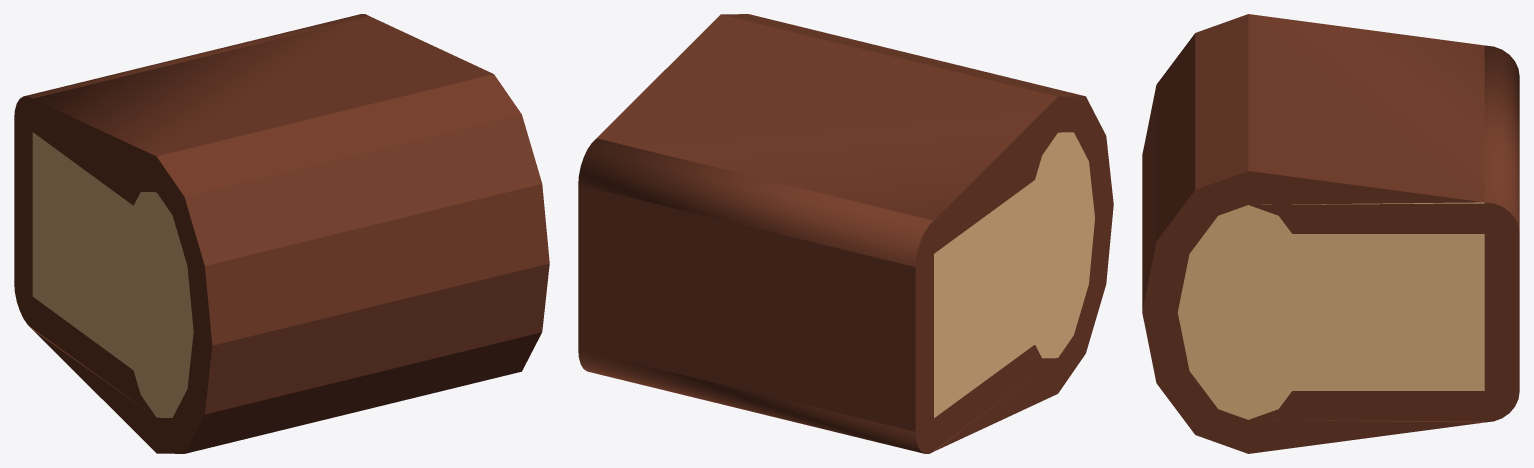
The model's file is breadS2_collision.obj.
3 views of the same model, side by side, from view 1: azimuth 30°, elevation 25°; view 2: azimuth 150°, elevation 25°; view 3: azimuth 270°, elevation 25° (orthographic). The views are drawn at different scales.
Visible parts, largest first — view 1: loaf_ID7.007; view 2: loaf_ID7.007; view 3: loaf_ID7.007.
Part boxes in pixels (x1,y1,x2,y2): loaf_ID7.007: (14,14,549,453); loaf_ID7.007: (578,14,1113,453); loaf_ID7.007: (1142,14,1519,453).
Bounding box in the file's own units: 0.3006 × 0.2528 × 0.3056.
